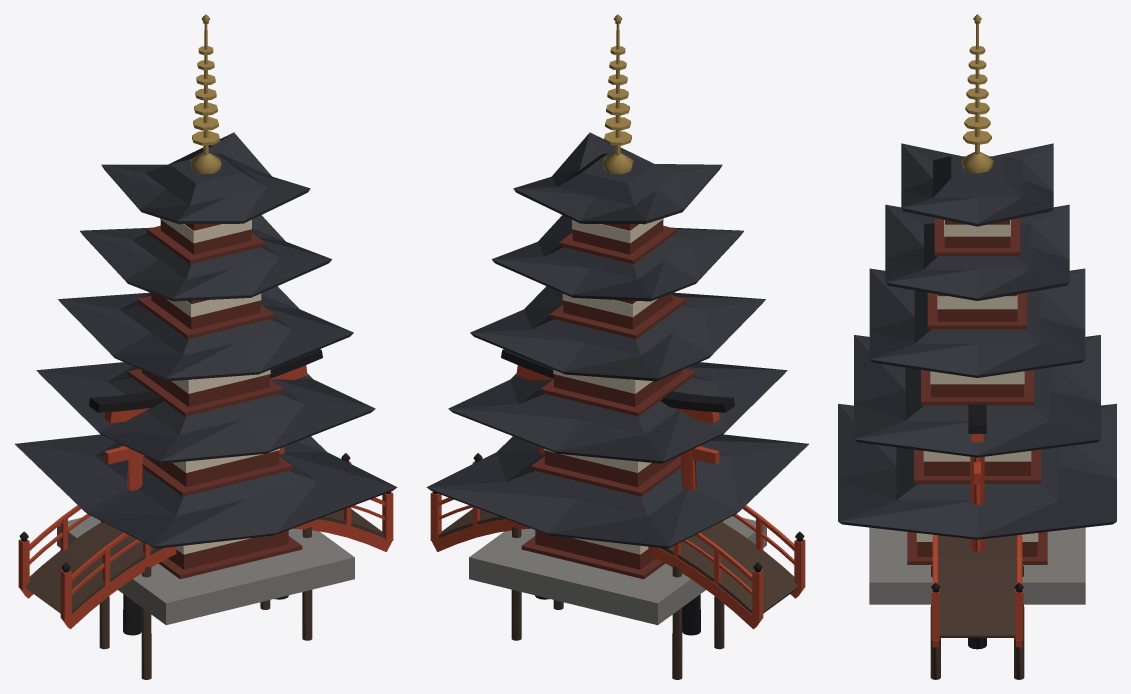
Rendered from sakura-props.glb.
3 renders of one model, left to right at view 1: azimuth 30°, elevation 25°; view 2: azimuth 150°, elevation 25°; view 3: azimuth 270°, elevation 25°, orthographic.
Parts seen in each view (by area): view 1: pagoda, bridge, torii; view 2: pagoda, bridge, torii; view 3: pagoda, bridge, torii.
Part boxes in pixels (x1,y1,x2,y2): pagoda: (15, 14, 397, 625); bridge: (18, 453, 393, 679); torii: (89, 349, 322, 635); pagoda: (426, 14, 808, 625); bridge: (430, 453, 805, 679); torii: (501, 349, 734, 635); pagoda: (838, 14, 1116, 604); bridge: (930, 534, 1024, 679); torii: (968, 404, 986, 649).
Bounding box in the file's own units: 9.44 × 17.19 × 6.95.
